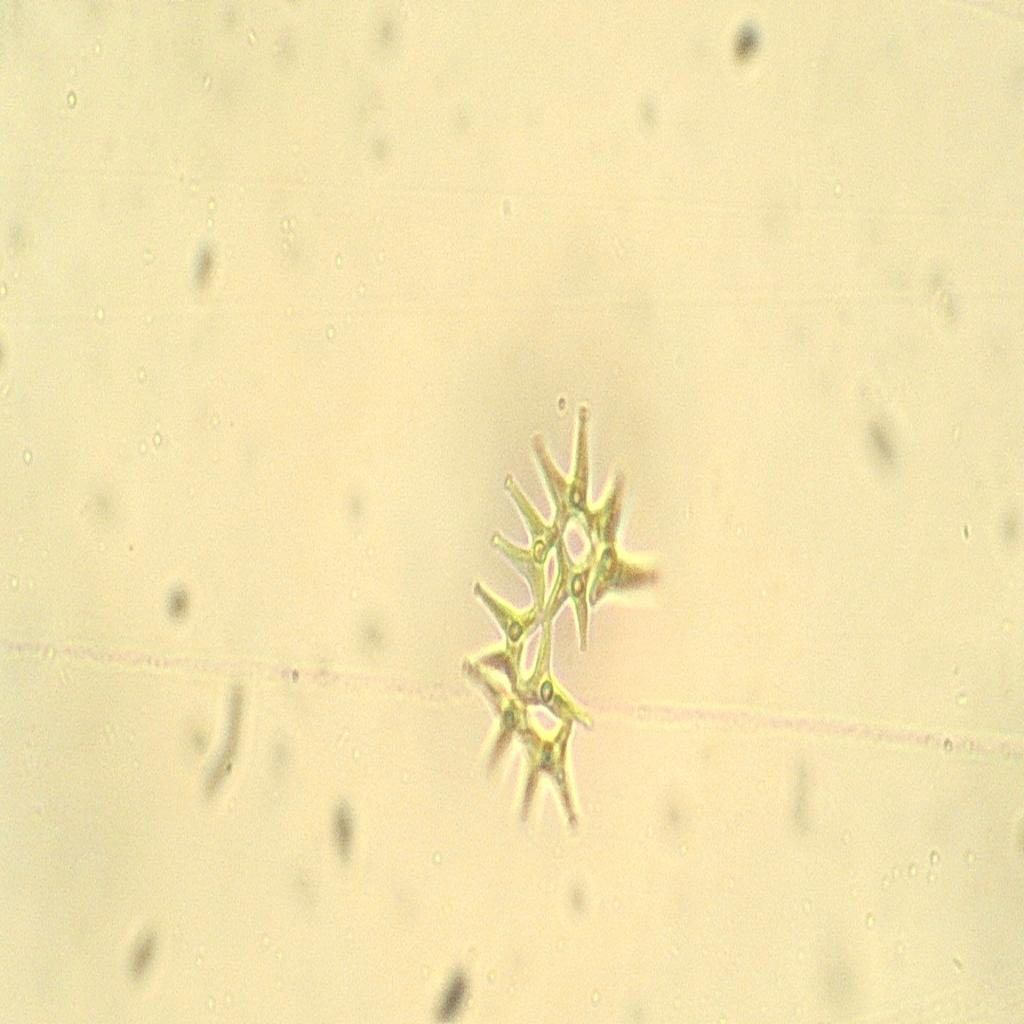Pediastrum_CFI: (445, 399, 678, 853)
